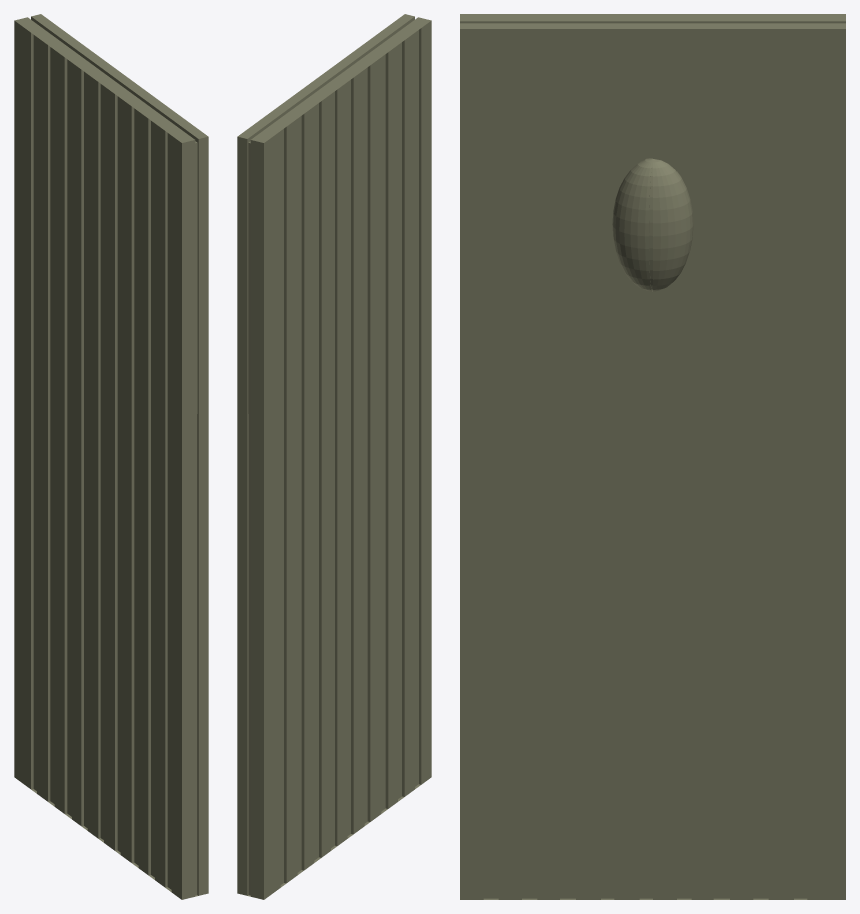
Rendered from Escultura6.fbx.
The picture shows the model from 3 angles, left to right: view 1: azimuth 30°, elevation 25°; view 2: azimuth 150°, elevation 25°; view 3: azimuth 270°, elevation 25°; orthographic projection. The views are drawn at different scales.
Visible parts, largest first — view 1: Cube; view 2: Cube; view 3: Cube, Sphere.001.
Part boxes in pixels (x1,y1,x2,y2): Cube: (14, 14, 208, 899); Cube: (237, 14, 431, 899); Cube: (460, 14, 845, 899); Sphere.001: (612, 158, 693, 291).
Size of the model in its own units: 73.15 by 1107 by 444.
